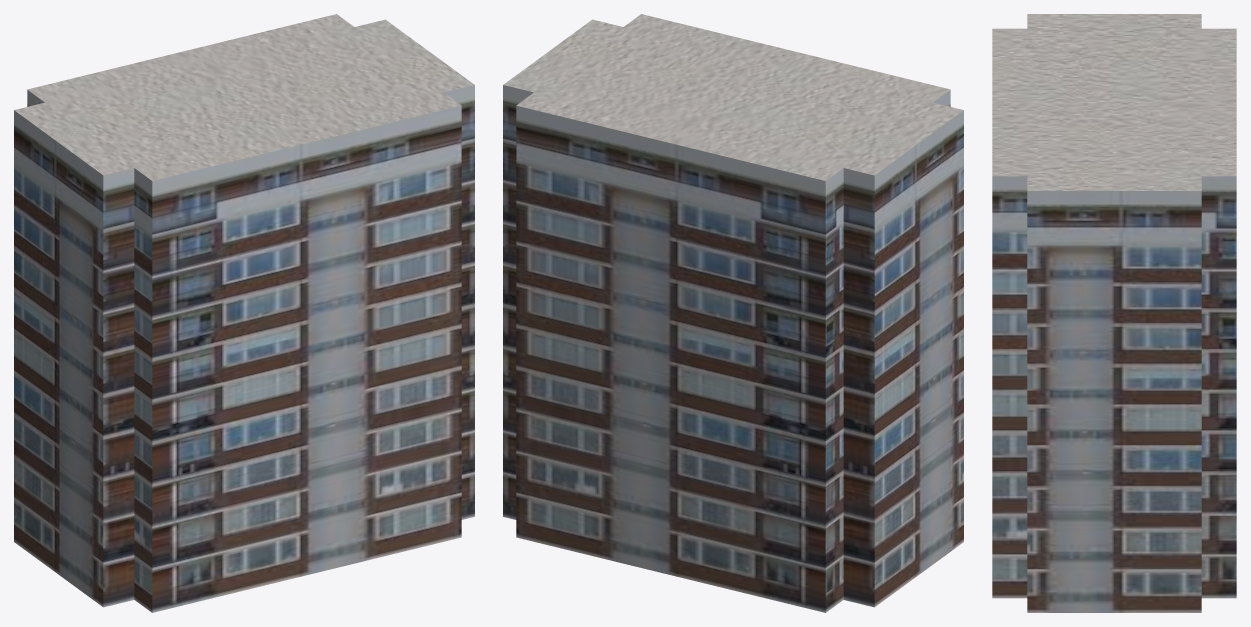
File: building2.fbx
3 renders of one model, left to right at view 1: azimuth 30°, elevation 25°; view 2: azimuth 150°, elevation 25°; view 3: azimuth 270°, elevation 25°, orthographic. The views are drawn at different scales.
Visible parts, largest first — view 1: building_028; view 2: building_028; view 3: building_028.
Part boxes in pixels (x1=…): building_028: x1=14, y1=14, x2=474, y2=612; building_028: x1=503, y1=14, x2=963, y2=612; building_028: x1=992, y1=14, x2=1236, y2=612.
Size of the model in its own units: 1800 by 2000 by 1050.
